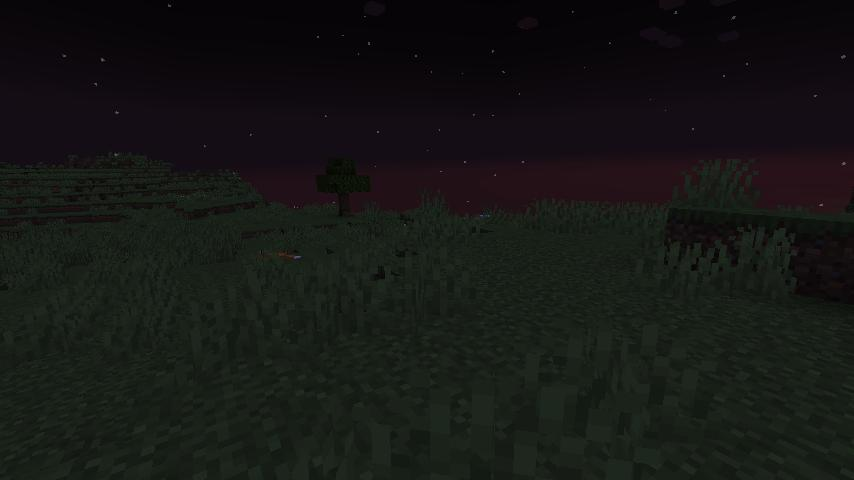fox: (253, 248, 303, 267)
